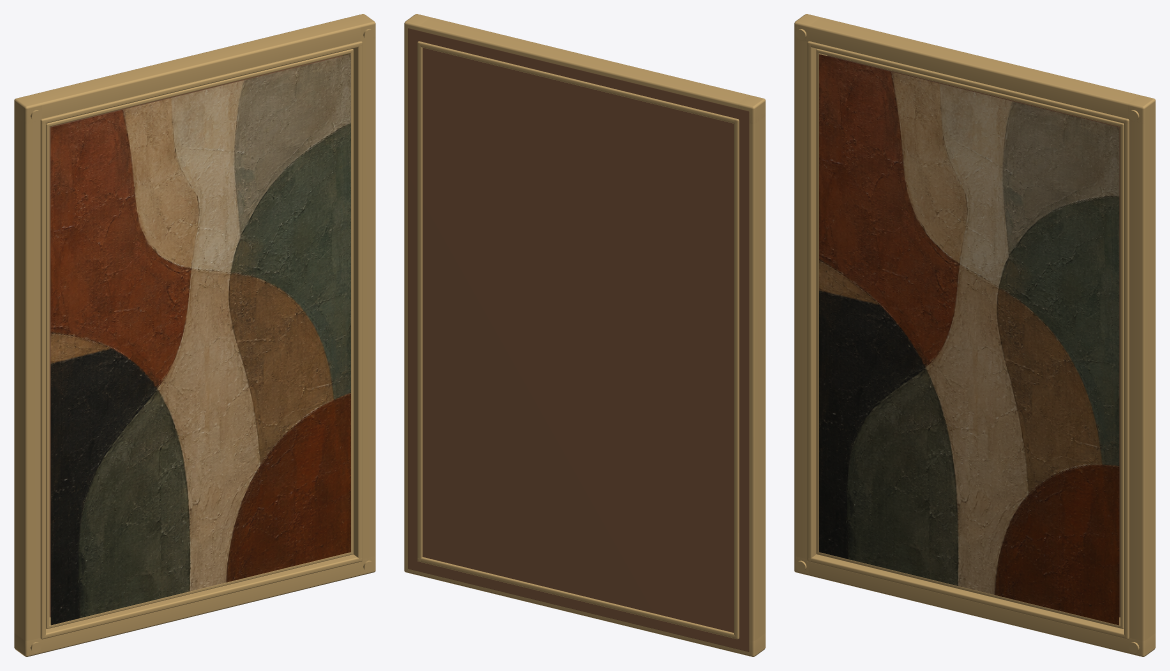
Rendered from apartment-art-portrait-4.glb.
The picture shows the model from 3 angles, left to right: view 1: azimuth 30°, elevation 25°; view 2: azimuth 150°, elevation 25°; view 3: azimuth 330°, elevation 25°; orthographic projection.
Visible parts, largest first — view 1: apartment-art-portrait-4 authored assembly; view 2: apartment-art-portrait-4 authored assembly; view 3: apartment-art-portrait-4 authored assembly.
Part boxes in pixels (x1,y1,x2,y2): apartment-art-portrait-4 authored assembly: (14,14,375,656); apartment-art-portrait-4 authored assembly: (404,14,765,656); apartment-art-portrait-4 authored assembly: (794,14,1155,656).
Size of the model in its own units: 0.5 by 0.75 by 0.038.
Materials: 3 (1 with a texture image).
